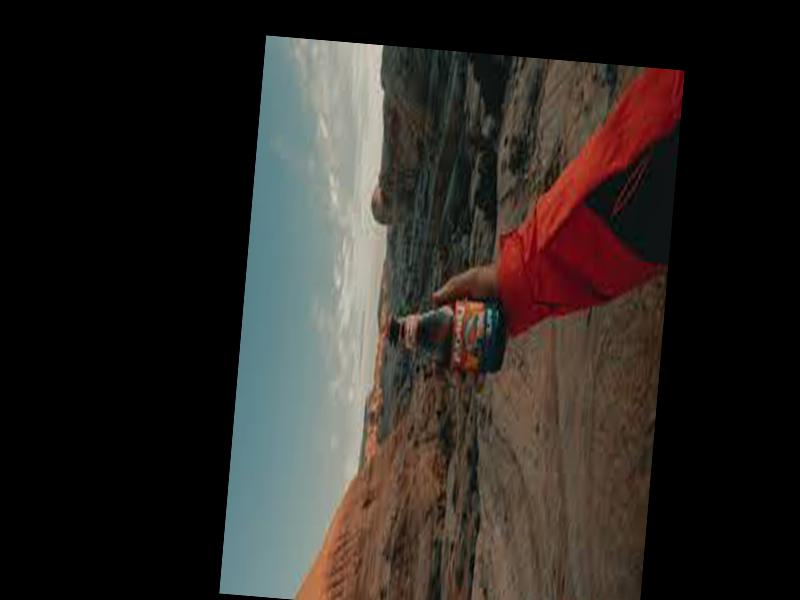Beer: (385, 286, 508, 377)
